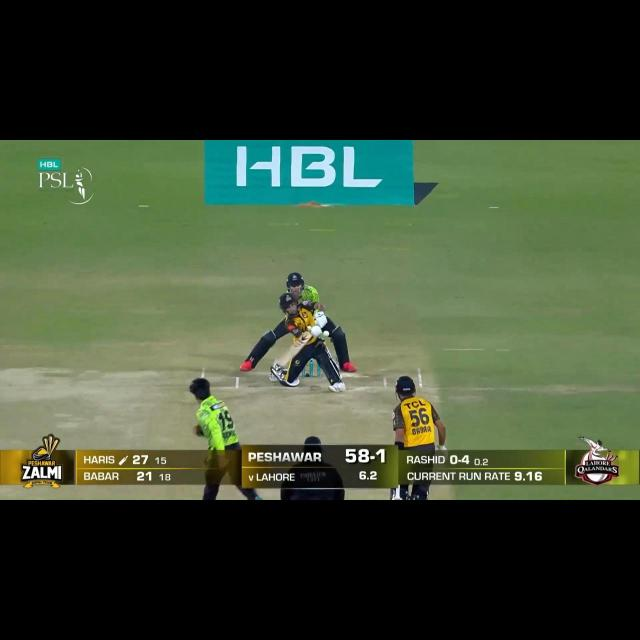bat: (274, 329, 312, 368), (392, 486, 404, 500)
toe: (275, 347, 295, 366)
